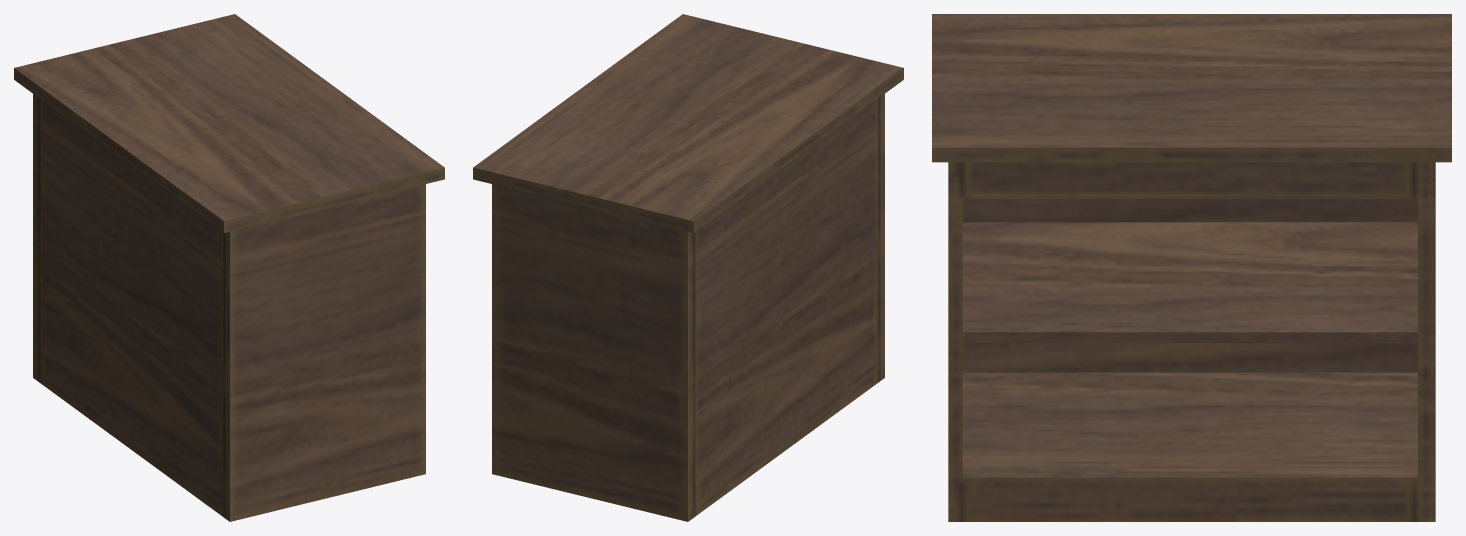
The model's file is Chest_drawers-col.glb.
3 renders of one model, left to right at view 1: azimuth 30°, elevation 25°; view 2: azimuth 150°, elevation 25°; view 3: azimuth 270°, elevation 25°, orthographic. The views are drawn at different scales.
Parts seen in each view (by area): view 1: Chest_drawers-col; view 2: Chest_drawers-col; view 3: Chest_drawers-col.
Part boxes in pixels (x1,y1,x2,y2): Chest_drawers-col: (14, 14, 444, 521); Chest_drawers-col: (473, 14, 903, 521); Chest_drawers-col: (932, 14, 1451, 521).
Bounding box in the file's own units: 1.56 × 2.08 × 2.57.
1 material, 1 textured.
